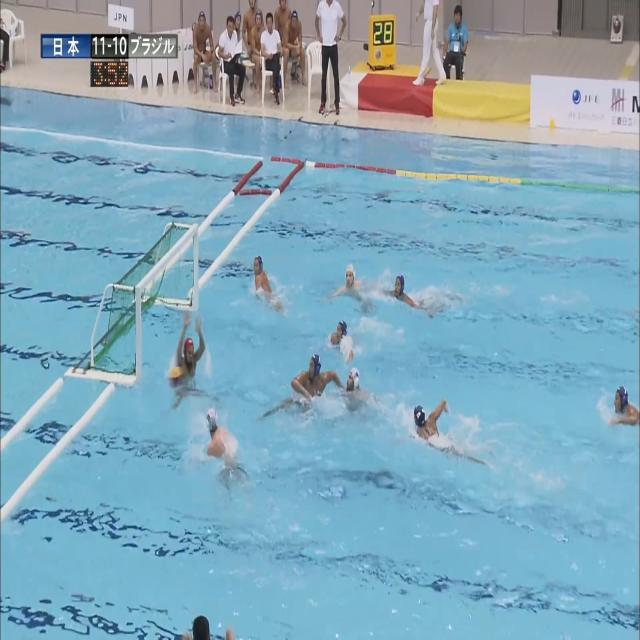ball: (168, 366, 181, 389)
